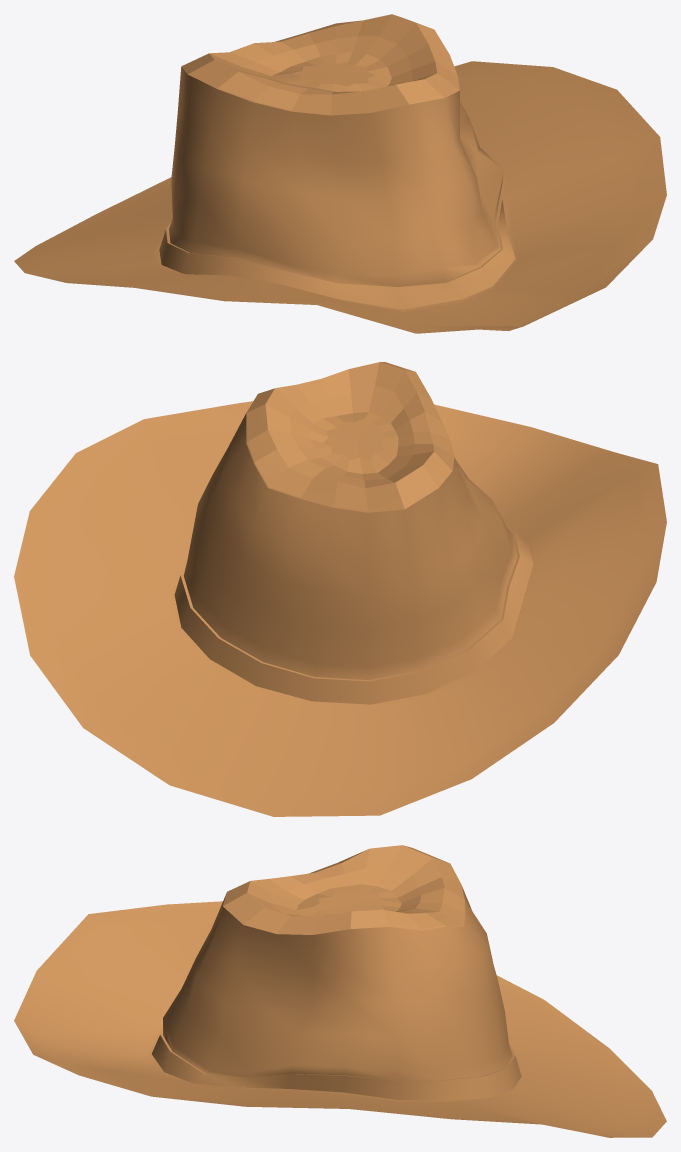
File: cowboy hat.fbx
3 renders of one model, top to bottom at view 1: azimuth 30°, elevation 25°; view 2: azimuth 150°, elevation 25°; view 3: azimuth 270°, elevation 25°, orthographic. The views are drawn at different scales.
Parts seen in each view (by area): view 1: hat group1; view 2: hat group1; view 3: hat group1.
Boxes of the visible parts, bbox=[...] form: hat group1: bbox=[14, 14, 666, 333]; hat group1: bbox=[14, 362, 666, 816]; hat group1: bbox=[14, 845, 666, 1137].
Size of the model in its own units: 214 by 101 by 238.
